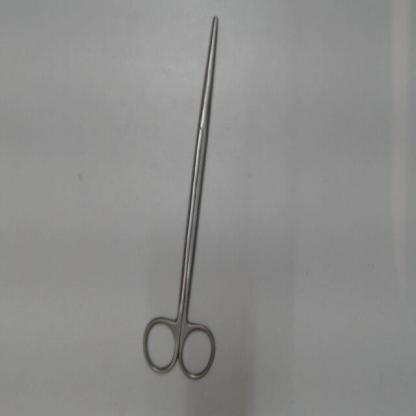9 Metzenbaum Scissors: (136, 12, 222, 388)
